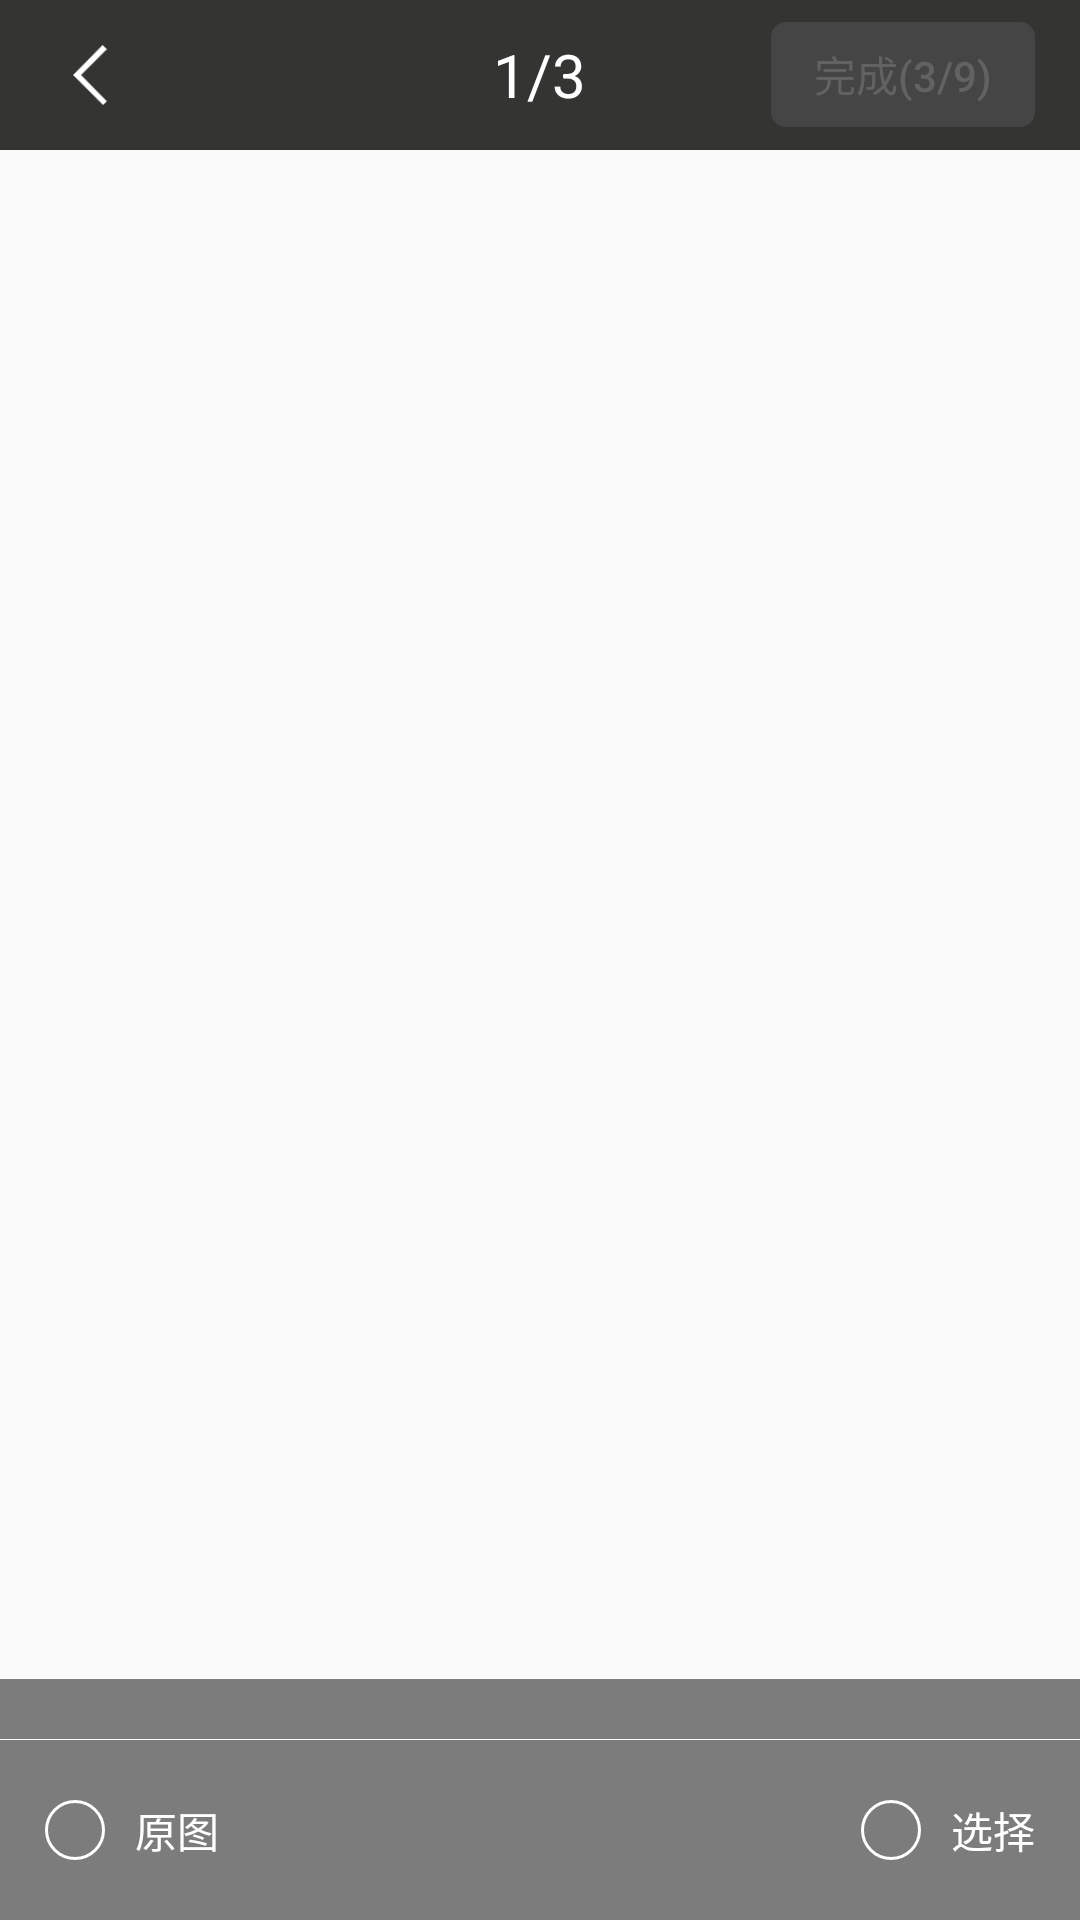

Screen size 1080*1920. Icon name, then its center in pixels as (x=x, y=y):
photo picker back: (x=90, y=75)
